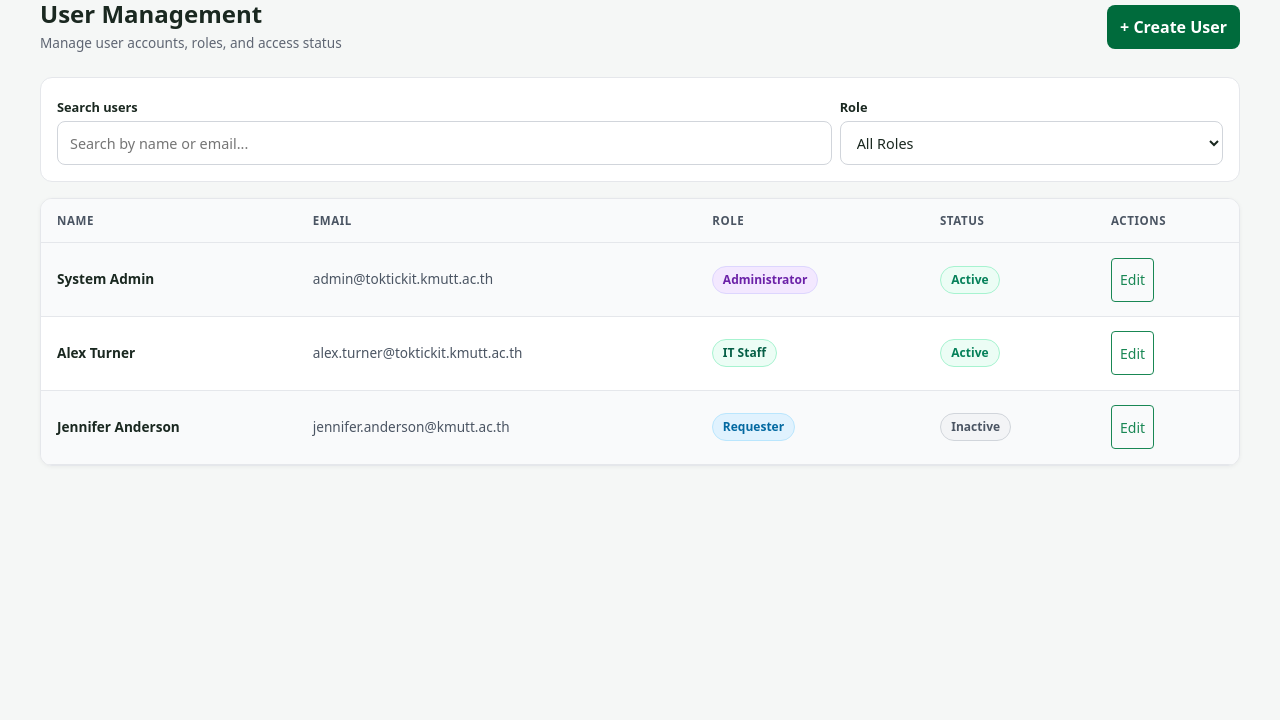
Test case: UI-07: Administrator user management (FR-14, FR-15, AC-7.1, AC-7.4) › edits a user with the exact payload and replaces the local directory entry
Expected: the text "System Admin" is shown, [57,269,154,288]
Click the button "Edit" in the row of "Alex Turner" at (1133, 353), box [1111,331,1154,375]
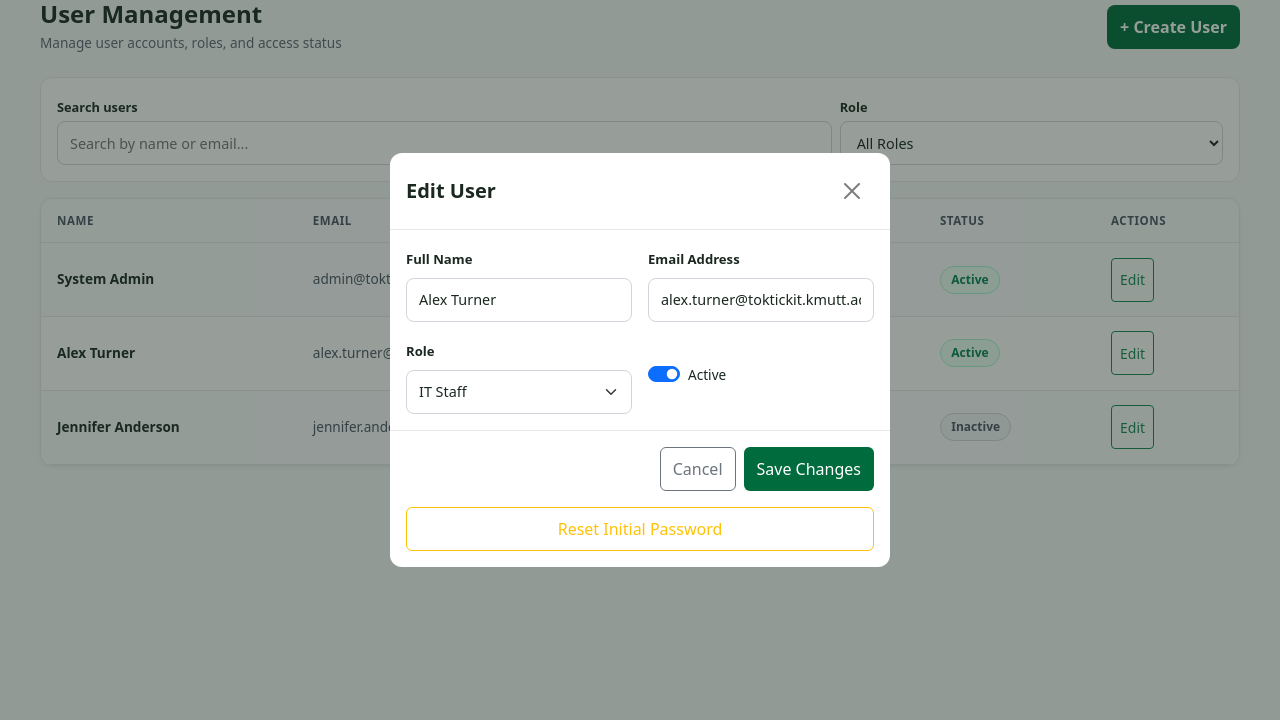
Replace the text in the field with id "edit-user-name" with "  Alex T. Turner  " at (519, 300), box [406,278,632,322]
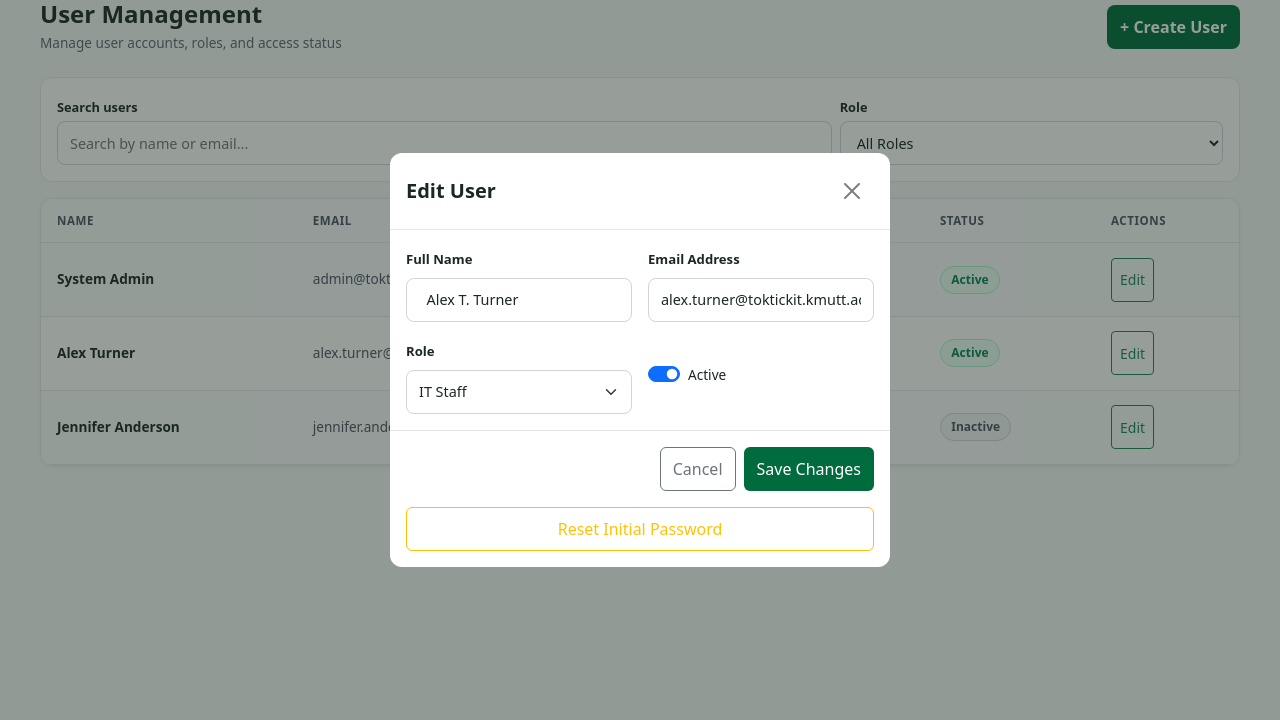
Replace the text in the field with id "edit-user-email" with "  alex.t.turner@toktickit.kmutt.ac.th  " at (761, 300), box [648,278,874,322]
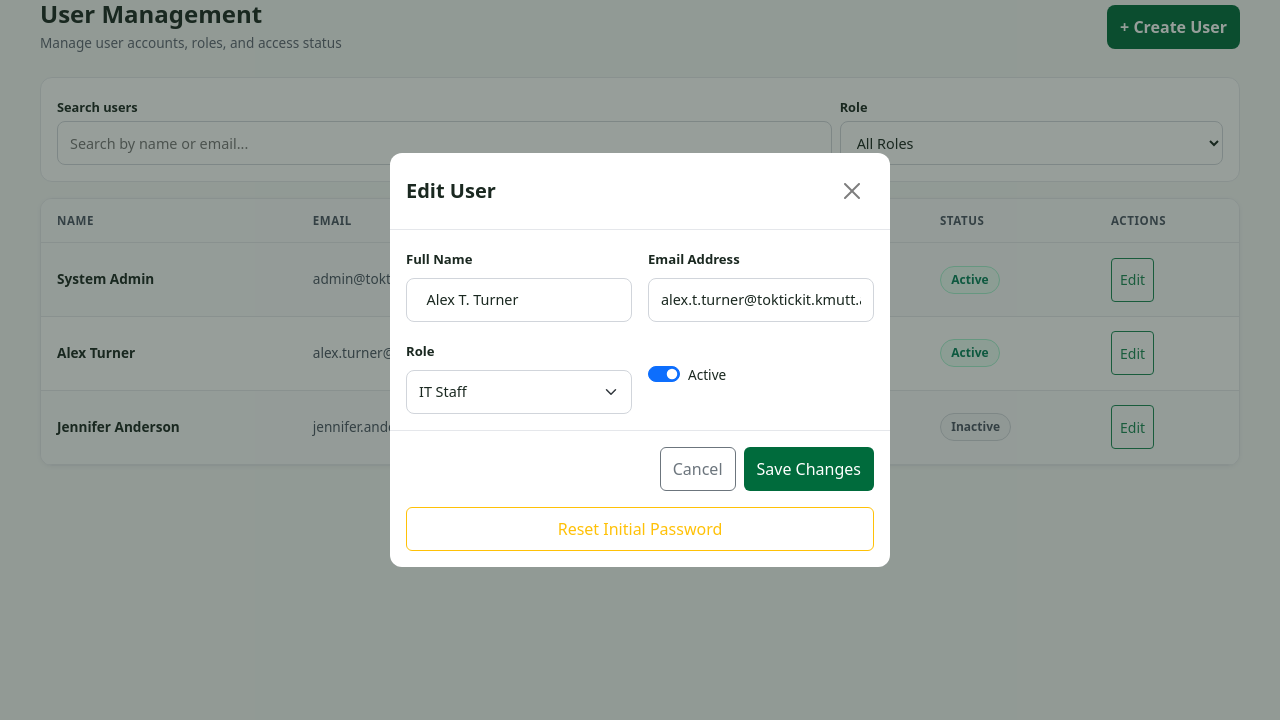
Select "Requester" in the dropdown with id "edit-user-role" at (519, 392), box [406,370,632,414]
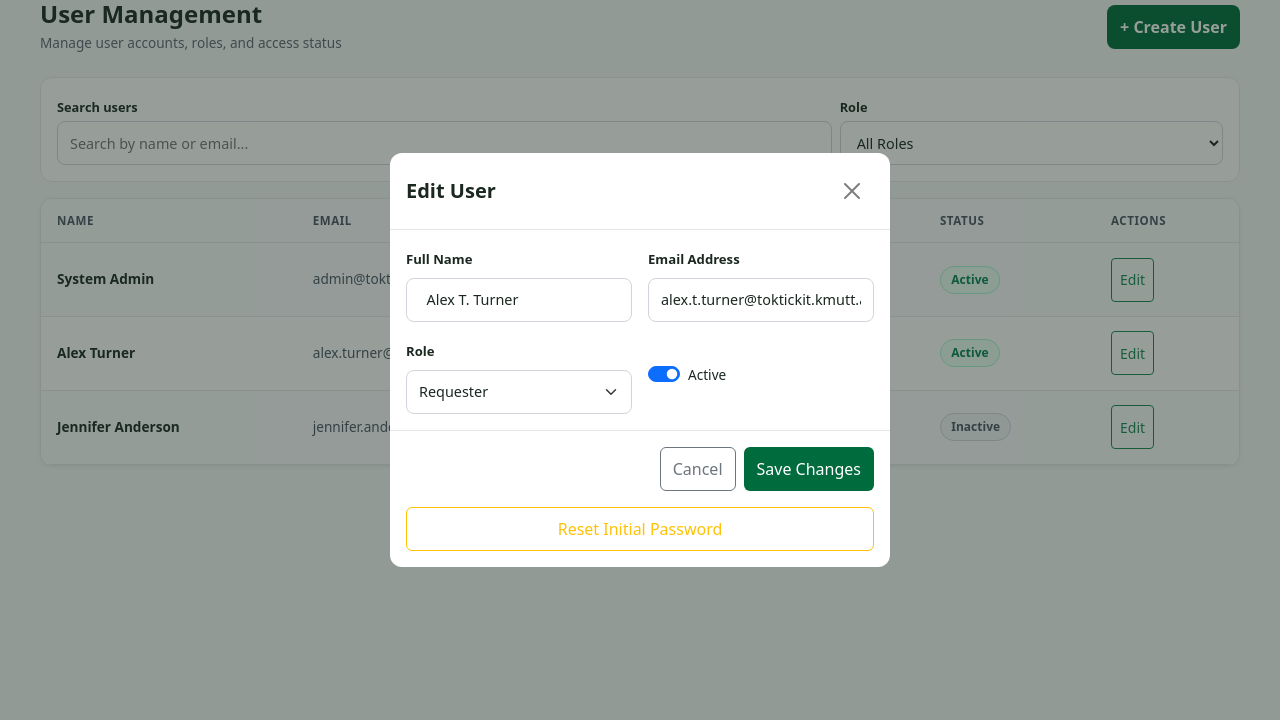
Click the switch with id "edit-user-active" at (664, 374), box [648,366,680,382]
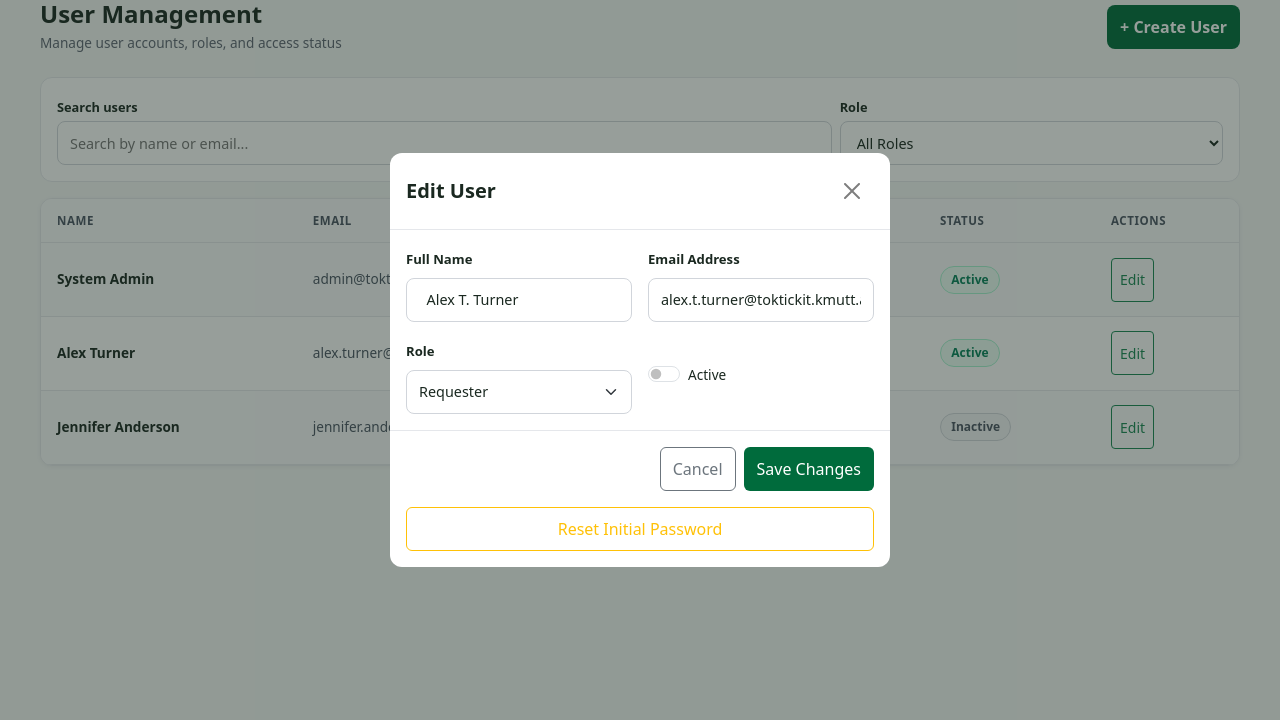
Click the button "Save Changes" at (809, 469), box [744,447,874,491]
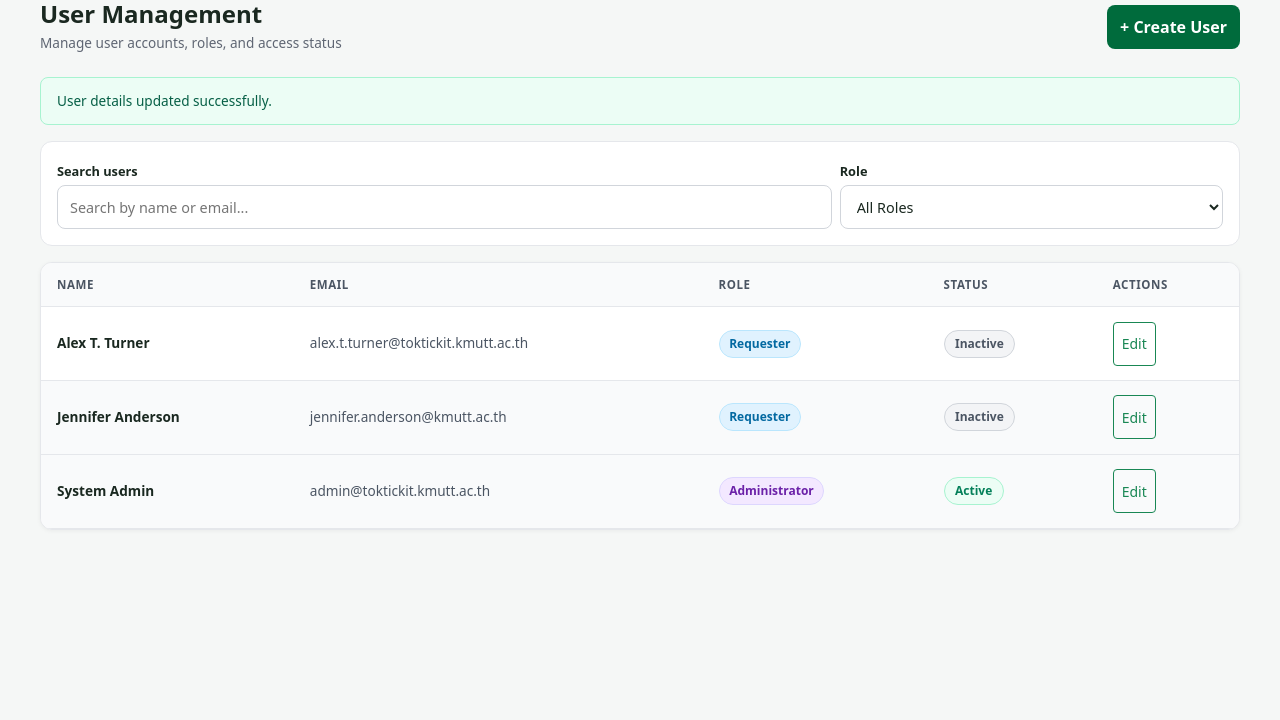
Expected: the dialog with test id "user-form-modal" is gone
Expected: the text "User details updated successfully." is shown, [40,77,1240,125]
Expected: the text "Alex Turner" is gone
